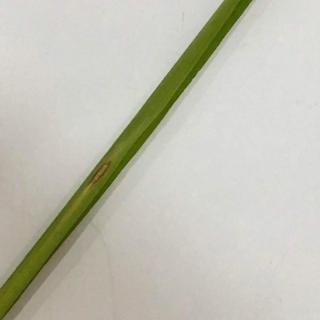Blast: (83, 151, 131, 204)
